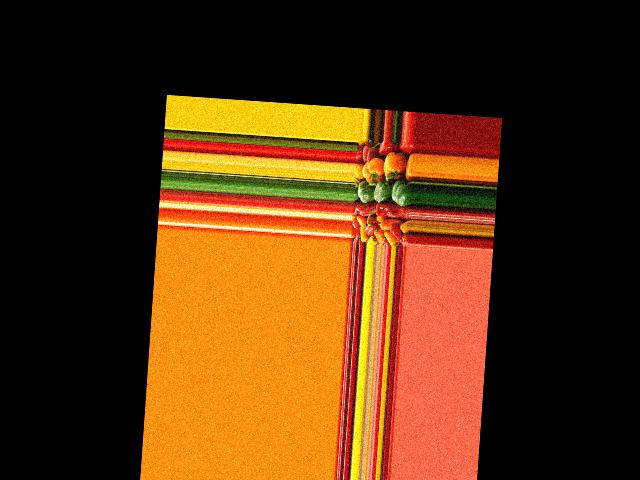bell_pepper: (388, 223, 404, 243)
